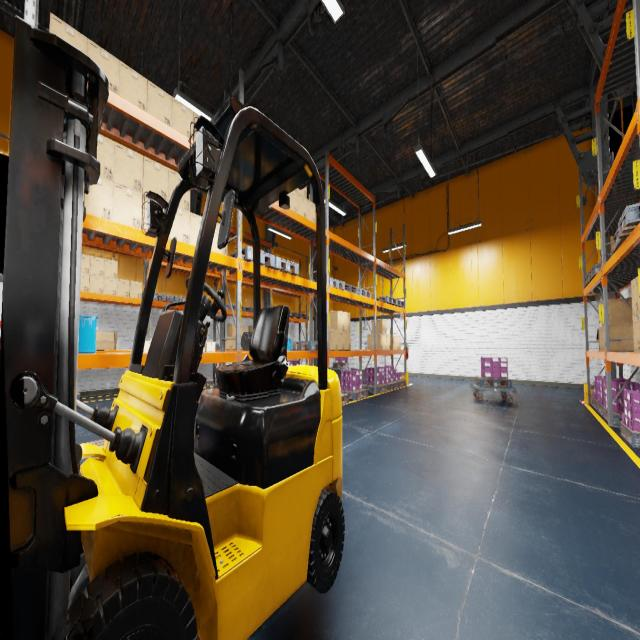box: (87, 39, 119, 94), (49, 12, 88, 54), (114, 142, 143, 192), (112, 182, 142, 230), (119, 60, 147, 111), (84, 177, 113, 220), (146, 80, 172, 126), (142, 156, 168, 202), (168, 168, 190, 212), (172, 97, 194, 139), (601, 297, 632, 326), (141, 194, 164, 232), (97, 133, 114, 182), (168, 208, 190, 244), (609, 323, 634, 351), (211, 222, 227, 255), (96, 331, 117, 350), (190, 212, 202, 245), (631, 277, 639, 316), (89, 274, 104, 294), (632, 315, 640, 352), (329, 311, 344, 330), (104, 258, 118, 278), (90, 256, 104, 276), (297, 192, 307, 218), (117, 278, 130, 297), (104, 276, 117, 295), (129, 280, 142, 298), (368, 334, 382, 349), (372, 319, 386, 334), (80, 272, 90, 292), (193, 112, 200, 140), (307, 199, 315, 223), (289, 190, 297, 212), (81, 254, 90, 273), (329, 330, 337, 350), (391, 335, 402, 349), (637, 276, 640, 314), (344, 312, 350, 331), (344, 331, 350, 350), (338, 331, 344, 350), (297, 187, 307, 198), (599, 326, 603, 351), (205, 342, 215, 351), (143, 341, 151, 352), (596, 329, 600, 350), (225, 337, 232, 349), (228, 324, 235, 336), (382, 334, 387, 350), (241, 324, 245, 337), (602, 326, 604, 351), (387, 335, 390, 349), (248, 326, 254, 332), (232, 337, 235, 349), (200, 344, 205, 351), (639, 314, 640, 335), (294, 188, 297, 192), (241, 337, 242, 349), (316, 210, 316, 223)
forklift: (0, 14, 344, 639)
pallets: (228, 246, 275, 268), (78, 439, 104, 472), (618, 203, 640, 238), (612, 224, 638, 252), (266, 257, 298, 275), (620, 421, 640, 448), (596, 401, 621, 419), (475, 376, 512, 388), (314, 277, 344, 290), (290, 341, 328, 351), (603, 407, 622, 426), (341, 389, 368, 400), (363, 384, 389, 393), (338, 283, 358, 294), (589, 264, 601, 281), (352, 288, 371, 298), (153, 293, 174, 302), (373, 296, 396, 304), (384, 382, 398, 390), (392, 299, 404, 307), (204, 379, 216, 387), (393, 380, 406, 387), (341, 393, 349, 404), (584, 272, 590, 286), (332, 363, 348, 368), (591, 396, 597, 409), (173, 296, 186, 302), (293, 313, 306, 318), (226, 304, 236, 310), (242, 306, 252, 312), (252, 308, 262, 312), (290, 312, 296, 317), (610, 249, 614, 256), (77, 391, 80, 400), (215, 344, 219, 349), (639, 438, 640, 446)
